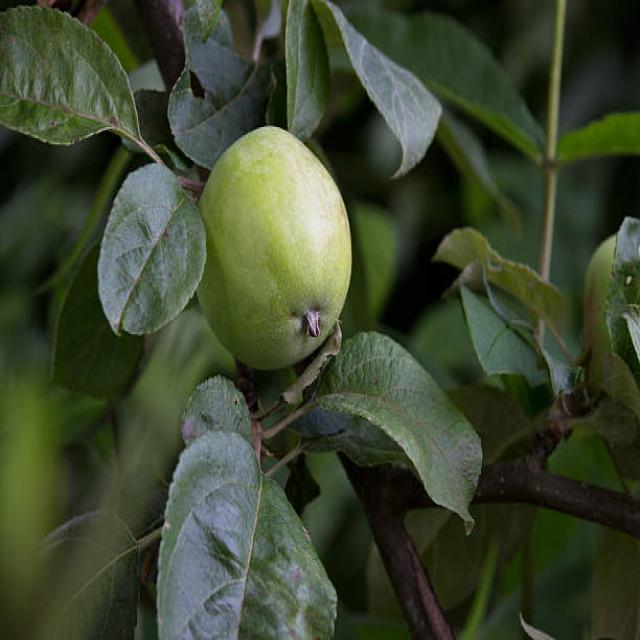Unripe: (190, 126, 353, 372)
